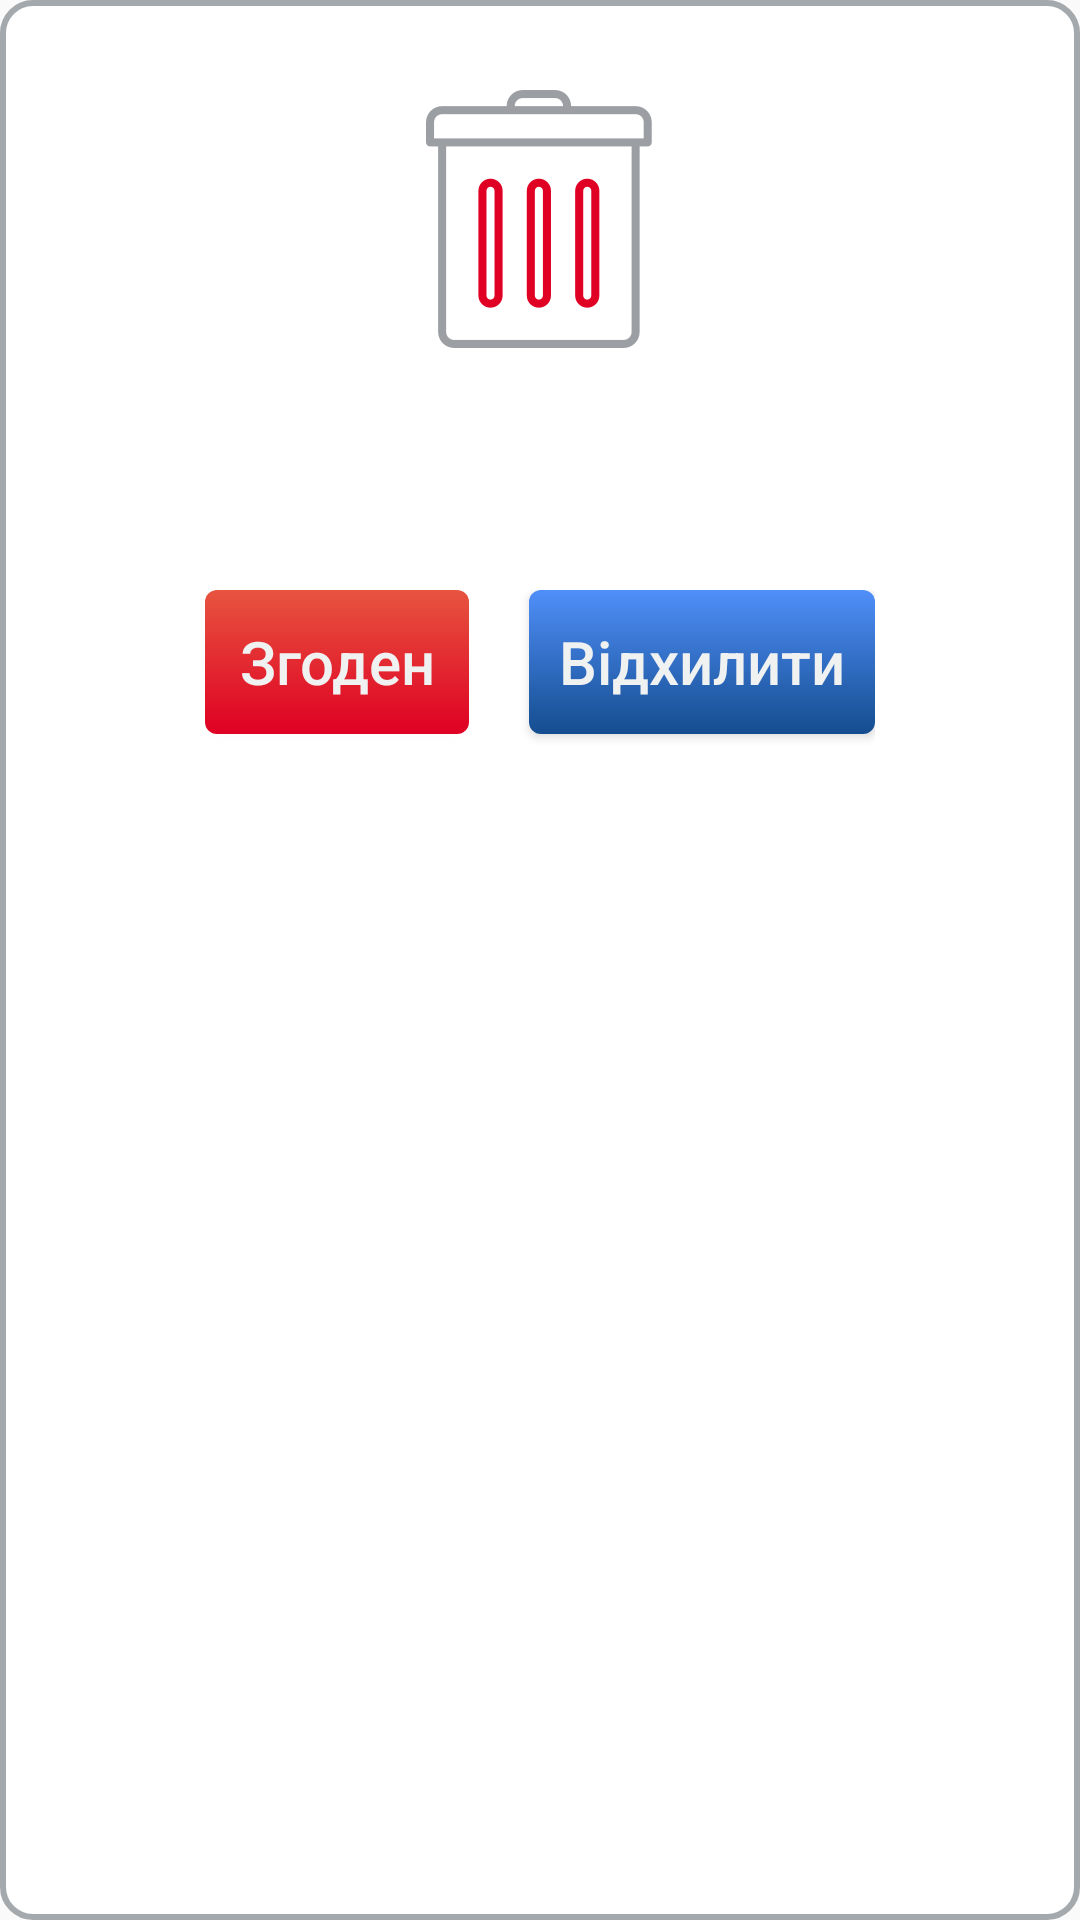

Named icons in this screenshot (1080×1920) and their centers, (x,y):
bin: (539,219)
